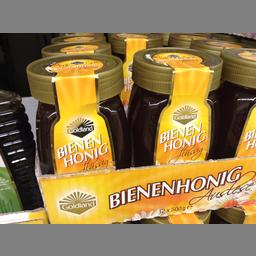honey: (24, 54, 134, 188), (131, 44, 224, 182)
